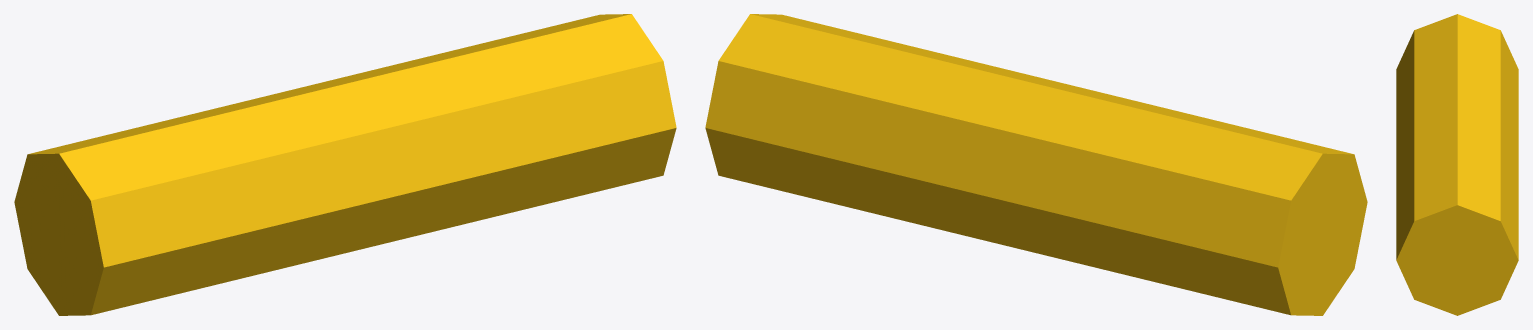
File: RifleCasing.glb
The picture shows the model from 3 angles, left to right: view 1: azimuth 30°, elevation 25°; view 2: azimuth 150°, elevation 25°; view 3: azimuth 270°, elevation 25°; orthographic projection. The views are drawn at different scales.
Parts seen in each view (by area): view 1: ammoCaseCylinder (1); view 2: ammoCaseCylinder (1); view 3: ammoCaseCylinder (1).
Part boxes in pixels (left/top/right/bottom): ammoCaseCylinder (1): left=14, top=14, right=676, bottom=315; ammoCaseCylinder (1): left=705, top=14, right=1367, bottom=315; ammoCaseCylinder (1): left=1396, top=14, right=1518, bottom=315.
Size of the model in its own units: 0.0591 by 0.016 by 0.016.
Materials: 1 (1 with a texture image).
